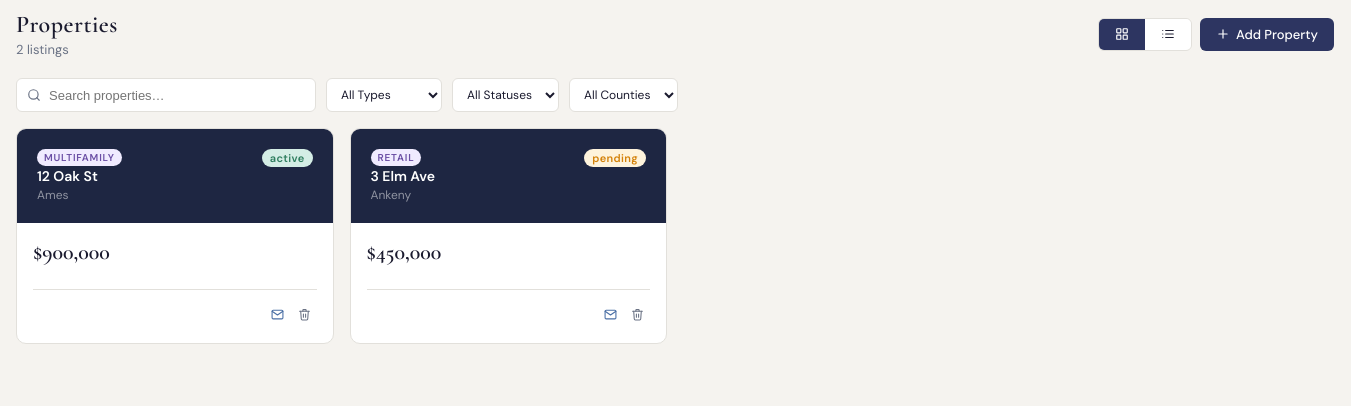
Test case: PropertiesPage › says "no match" with a clear-filters action, not "no properties yet", when filters hide everything
The width and height of the screenshot is (1351, 406).
Type "zzz" into the search field.
click(177, 95); type("zzz")  # box [49, 88, 305, 102]
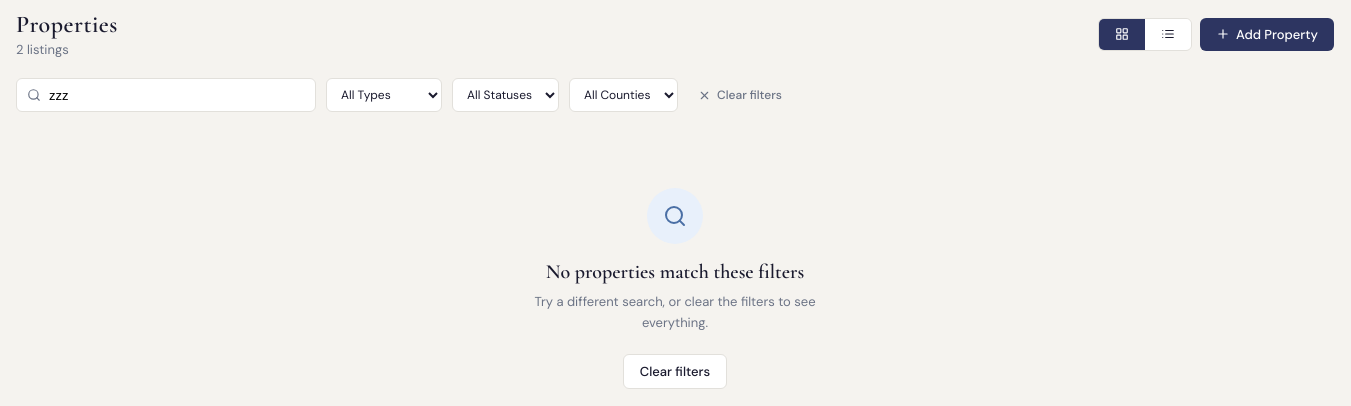
Now the text "No properties match these filters" is shown, box [546, 260, 804, 284]
Click the 1st button "Clear filters".
click(740, 95)  # box [688, 82, 792, 108]
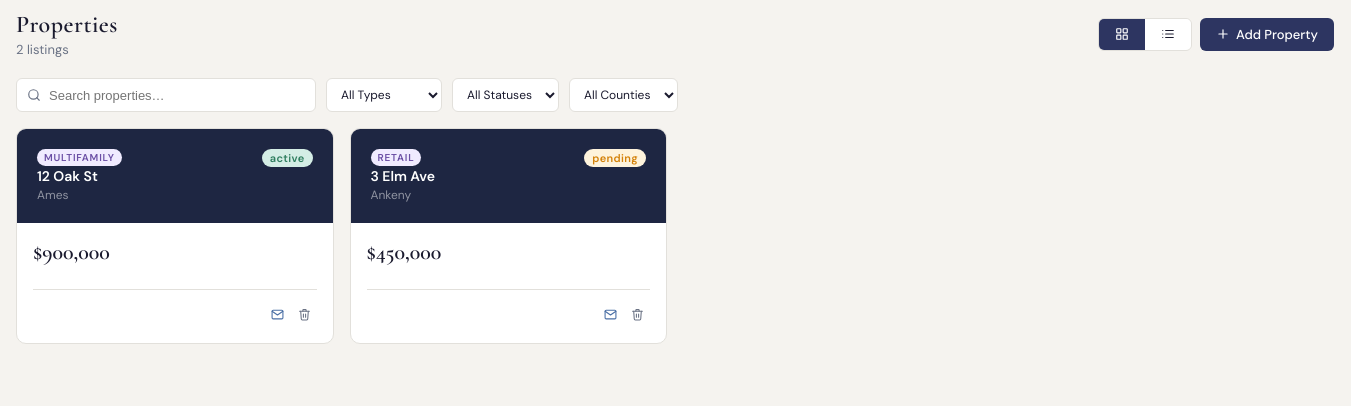
Now the button "12 Oak St" is shown, box [37, 167, 98, 185]
